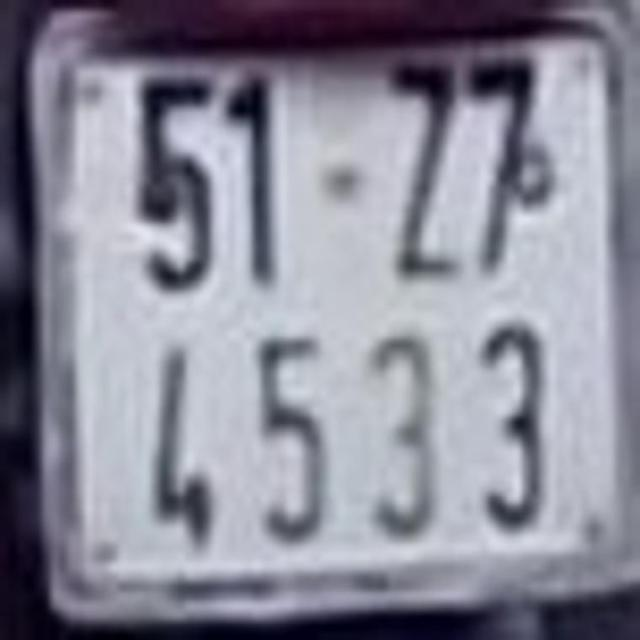1: (224, 70, 284, 288)
3: (368, 328, 438, 538), (478, 318, 545, 531)
4: (147, 340, 220, 556)
5: (136, 72, 218, 293), (256, 331, 330, 543)
7: (468, 53, 536, 276)
Z: (385, 57, 463, 284)
